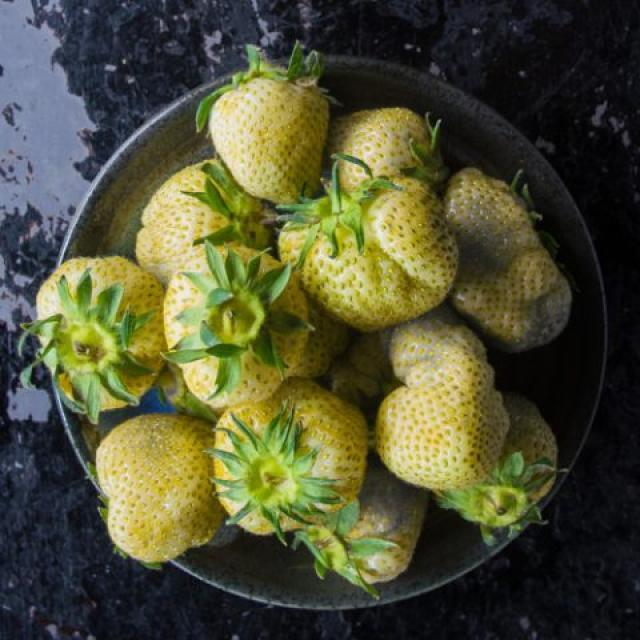unripe: (278, 180, 458, 330), (442, 168, 574, 348), (214, 382, 368, 536), (163, 252, 310, 408), (34, 254, 162, 411), (97, 412, 226, 562), (376, 353, 509, 490), (137, 158, 269, 284), (210, 73, 329, 204), (317, 486, 425, 585), (330, 108, 445, 198)
